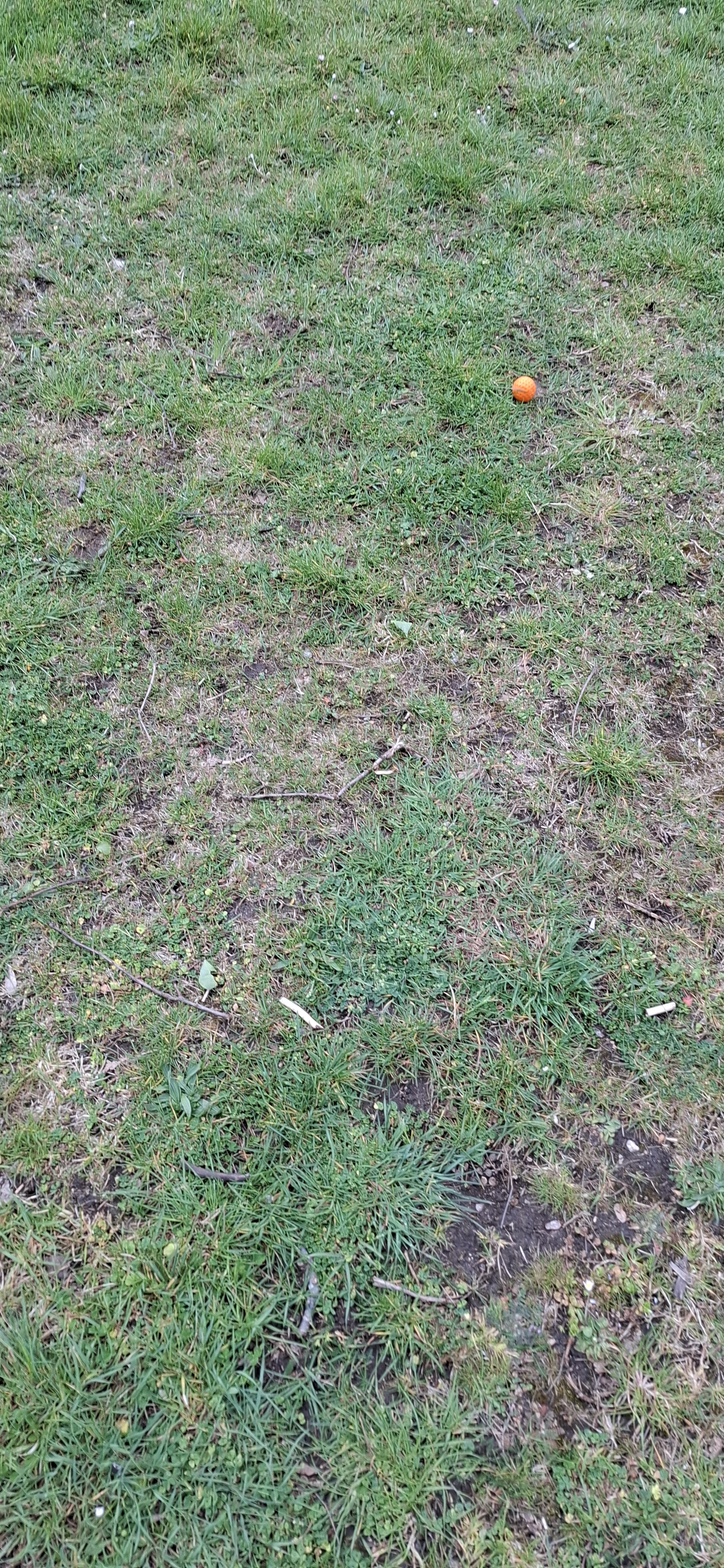ball: (173, 407, 186, 458)
